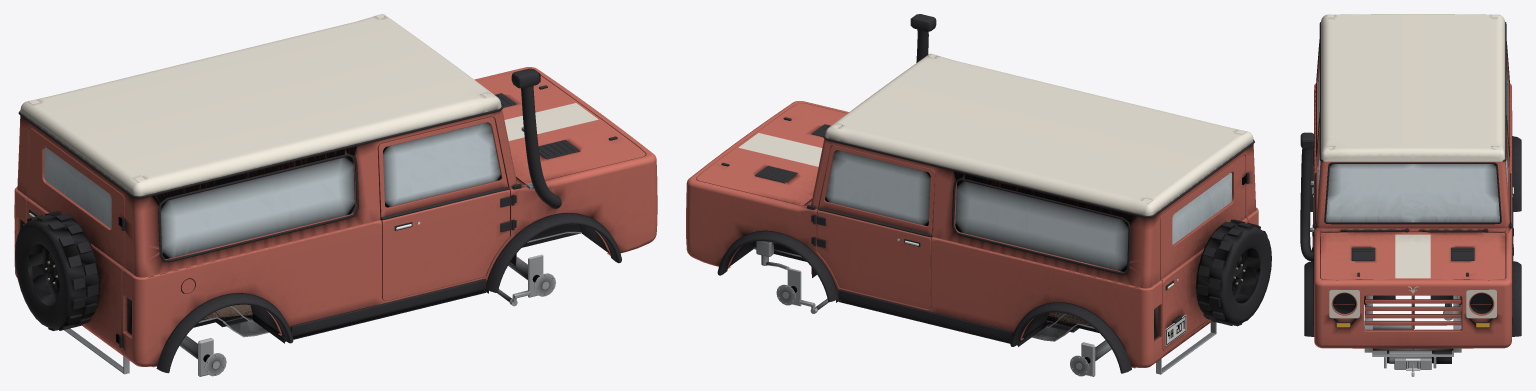
File: goat.glb
3 renders of one model, left to right at view 1: azimuth 30°, elevation 25°; view 2: azimuth 150°, elevation 25°; view 3: azimuth 270°, elevation 25°, orthographic. The views are drawn at different scales.
Parts seen in each view (by area): view 1: BODY, P_trunk, P_door_FR, GLASS, P_hood, PG_door_FR, UNDER, PG_trunk, KNUCKLE_hub_FR, KNUCKLE_hub_RR, INTERIOR; view 2: BODY, P_trunk, P_door_FL, GLASS, P_hood, PG_door_FL, UNDER, PG_trunk, KNUCKLE_hub_FL, KNUCKLE_hub_RL, INTERIOR; view 3: BODY, GLASS, P_hood, UNDER, P_door_FR, P_door_FL, INTERIOR.
Part boxes in pixels (x1,y1,x2,y2): BODY: (14, 14, 657, 373); P_trunk: (15, 128, 124, 347); P_door_FR: (377, 116, 510, 300); GLASS: (160, 116, 492, 258); P_hood: (476, 72, 645, 184); PG_door_FR: (383, 122, 501, 207); UNDER: (64, 224, 609, 374); PG_trunk: (44, 147, 111, 228); KNUCKLE_hub_FR: (512, 254, 555, 301); KNUCKLE_hub_RR: (198, 338, 226, 376); INTERIOR: (20, 94, 515, 334); BODY: (686, 14, 1258, 373); P_trunk: (1160, 155, 1271, 350); P_door_FL: (817, 145, 935, 309); GLASS: (833, 145, 1128, 271); P_hood: (696, 103, 846, 205); PG_door_FL: (825, 150, 930, 225); UNDER: (728, 241, 1216, 374); PG_trunk: (1172, 172, 1231, 244); KNUCKLE_hub_FL: (776, 268, 815, 310); KNUCKLE_hub_RL: (1070, 342, 1095, 376); INTERIOR: (812, 125, 1245, 339); BODY: (1300, 14, 1521, 348); GLASS: (1318, 67, 1507, 222); P_hood: (1320, 232, 1505, 280); UNDER: (1364, 295, 1461, 376); P_door_FR: (1312, 131, 1320, 247); P_door_FL: (1505, 134, 1513, 247); INTERIOR: (1315, 86, 1492, 299).
Bounding box in the file's own units: 4.43 × 1.83 × 1.88.
